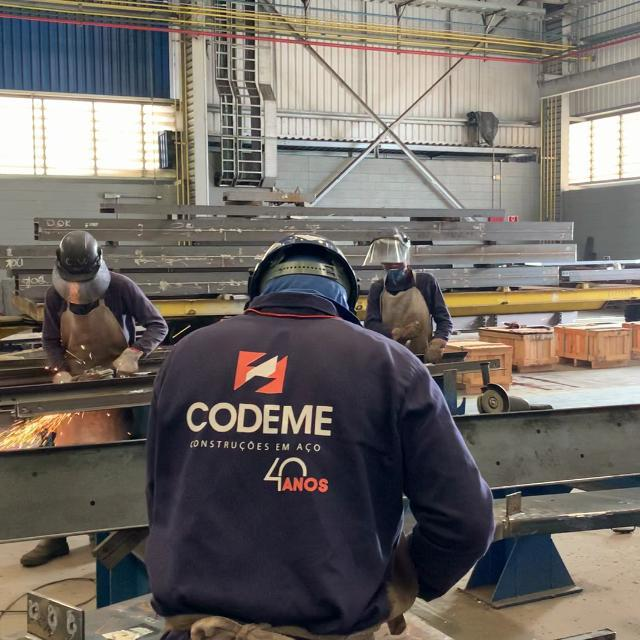face-shield: (48, 259, 114, 305), (364, 237, 411, 266)
glove: (112, 347, 144, 374), (423, 338, 445, 365)
helmet: (249, 233, 363, 309), (55, 229, 101, 284), (372, 224, 409, 240)
person: (142, 234, 496, 640), (41, 228, 170, 380), (364, 226, 454, 364)
